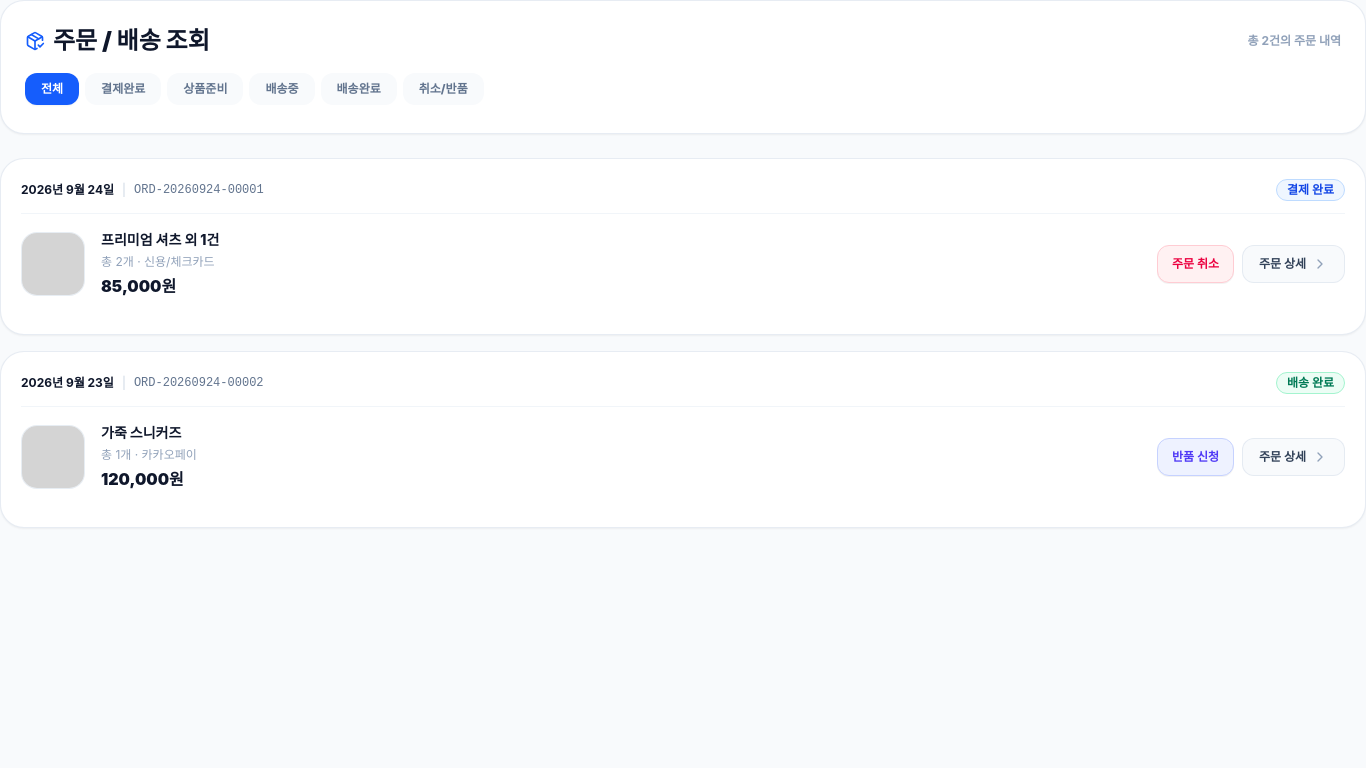
Test: OrderListViewer Component › 주문 목록에서 직접 주문 취소 버튼을 클릭하여 취소 모달을 열고 취소를 진행할 수 있다
Click the button "주문 취소". click: (1196, 264)
box: [1157,245,1234,283]
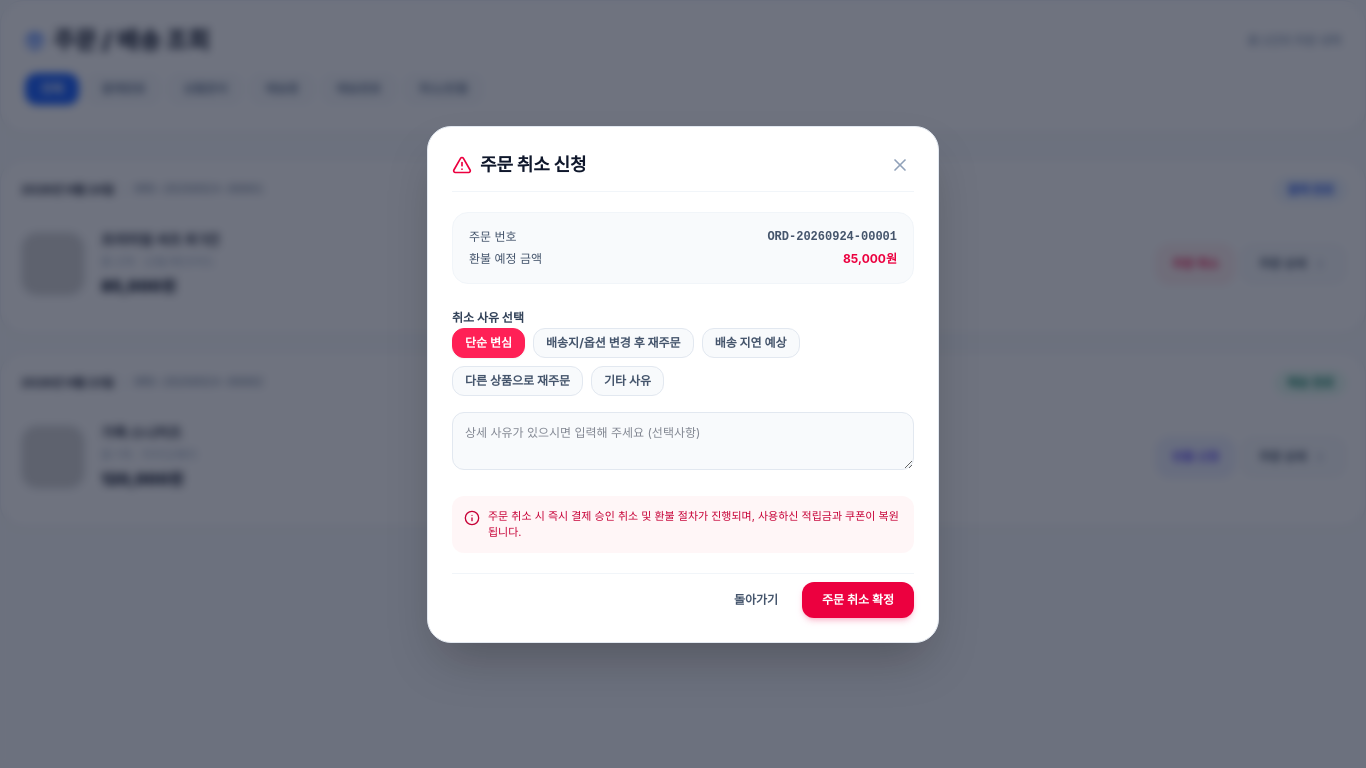
Result: the heading "주문 취소 신청" is shown at [480,150,586,178]
Click the button "주문 취소 확정". click: (858, 600)
box: [802,582,914,618]
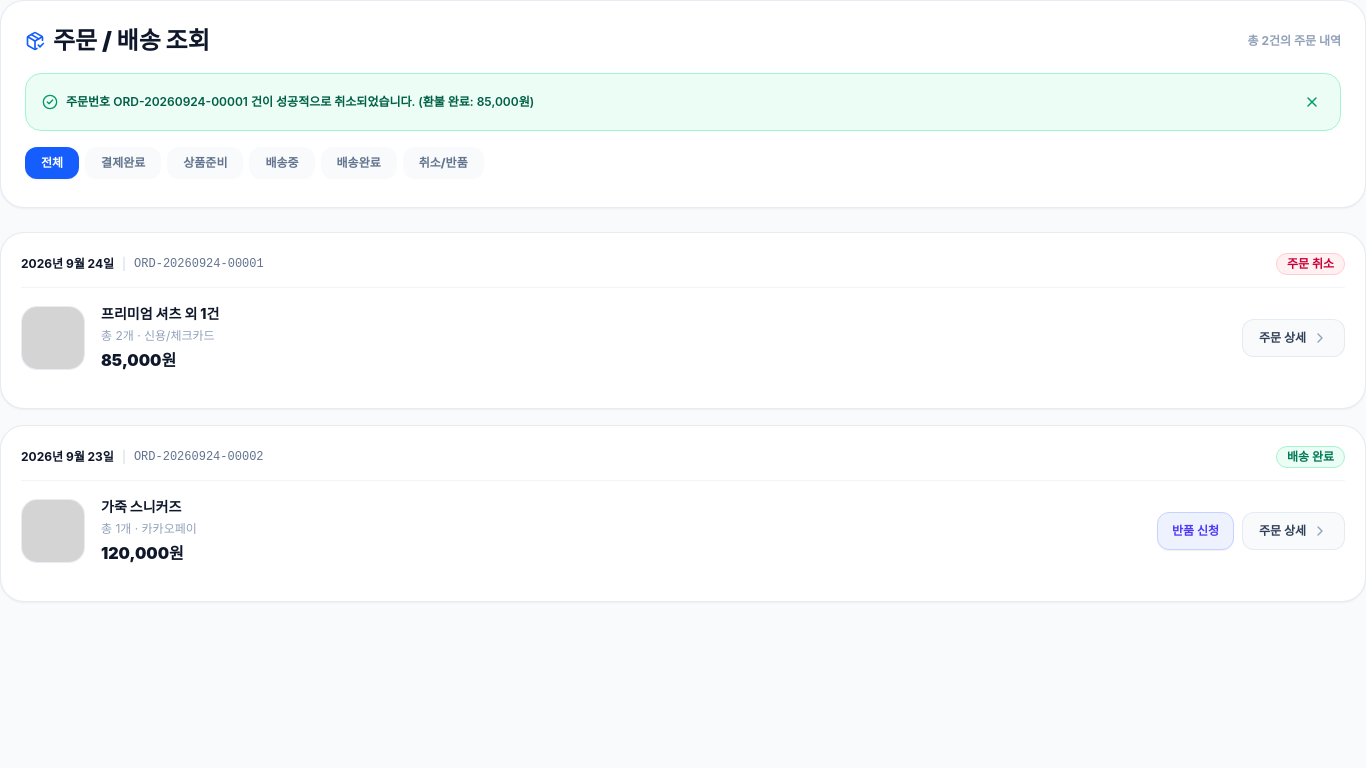
Result: the text "주문번호 ORD-20260924-00001 건이 성공적으로 취소되었습니다. (환불 완료: 85,000원)" is shown at [66,94,534,110]
